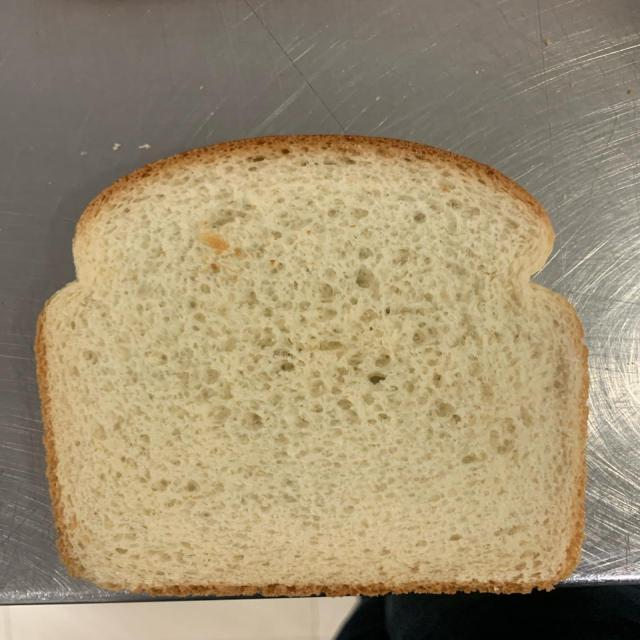pan: (35, 133, 590, 598)
